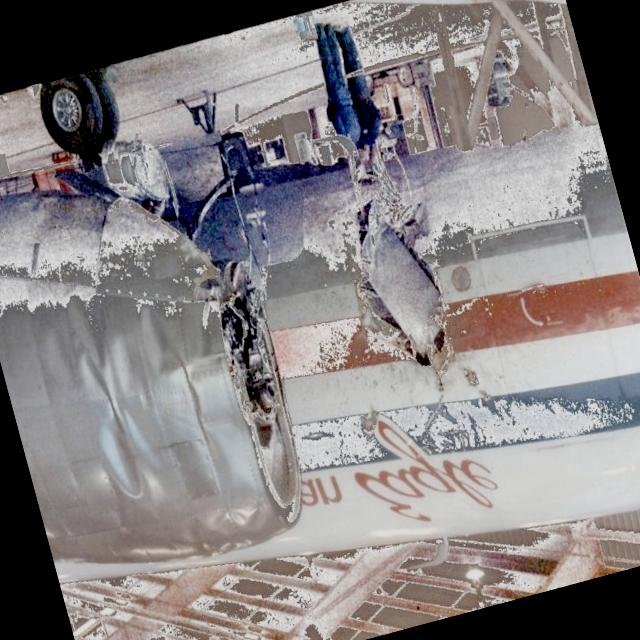crack: (358, 207, 445, 363), (214, 262, 280, 446)
dent: (0, 199, 269, 560), (31, 271, 232, 528)
